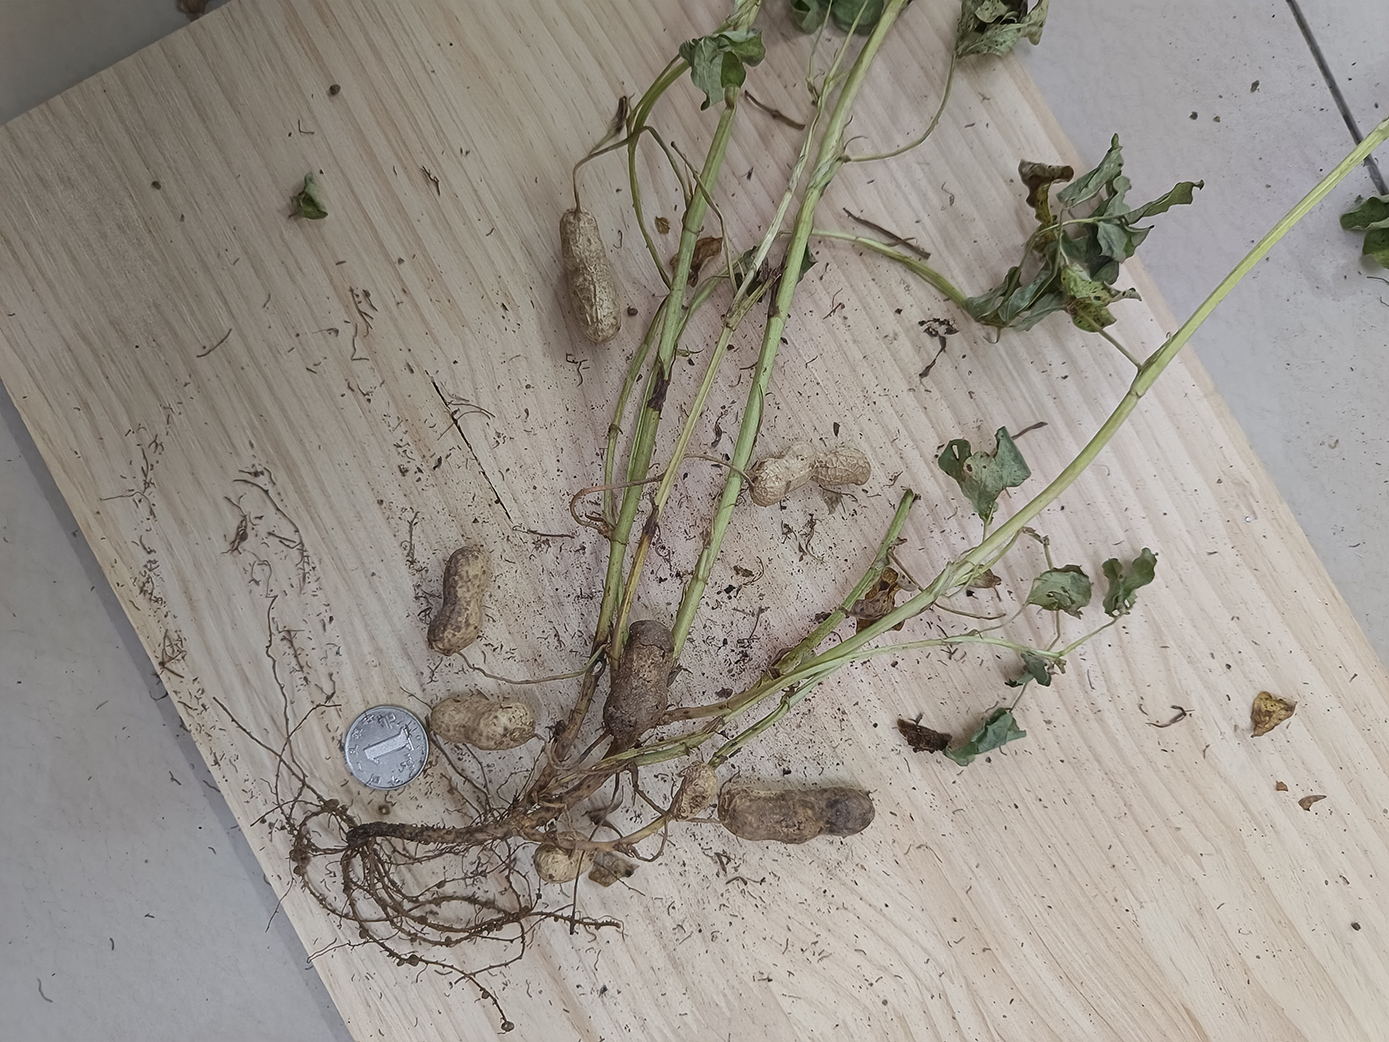h: (558, 206, 621, 346), (751, 441, 873, 507), (425, 547, 495, 655), (428, 695, 536, 751), (535, 832, 595, 884), (674, 765, 717, 822)
l: (720, 784, 876, 843), (605, 620, 671, 743)
